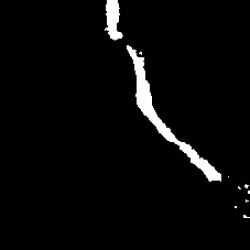crack: (129, 47, 223, 182), (106, 1, 121, 39), (237, 184, 248, 193), (240, 212, 246, 220), (233, 204, 240, 208), (244, 199, 246, 205)
